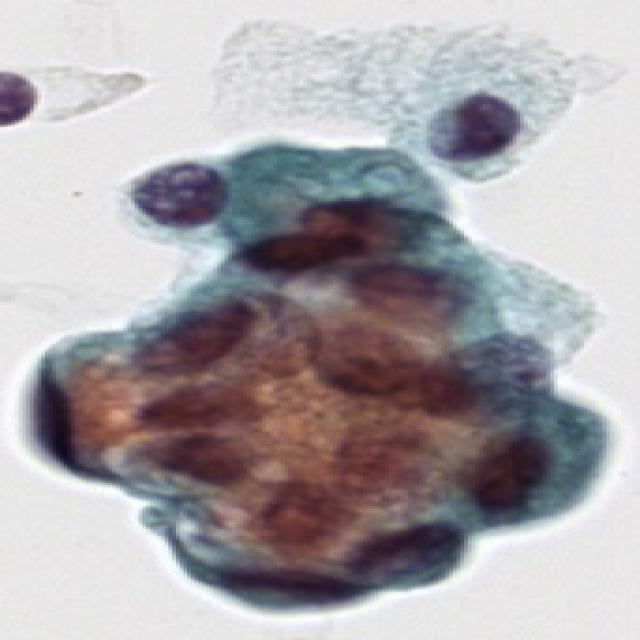nucleus: (416, 92, 524, 159)
